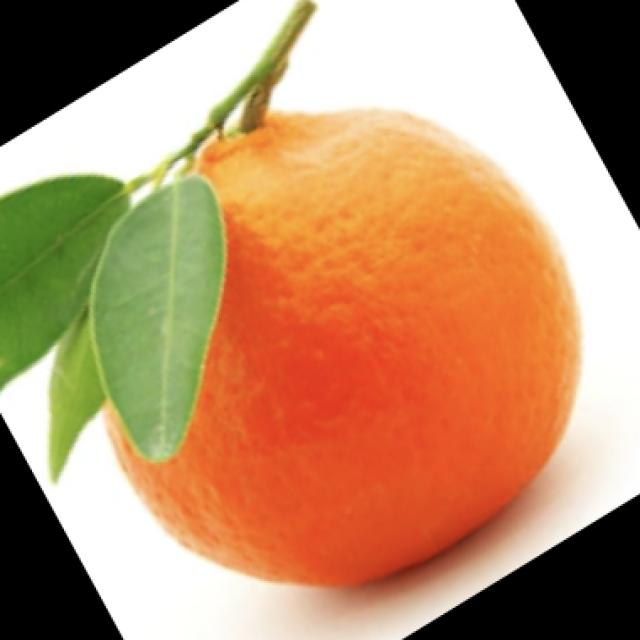fresh: (37, 48, 593, 594)
